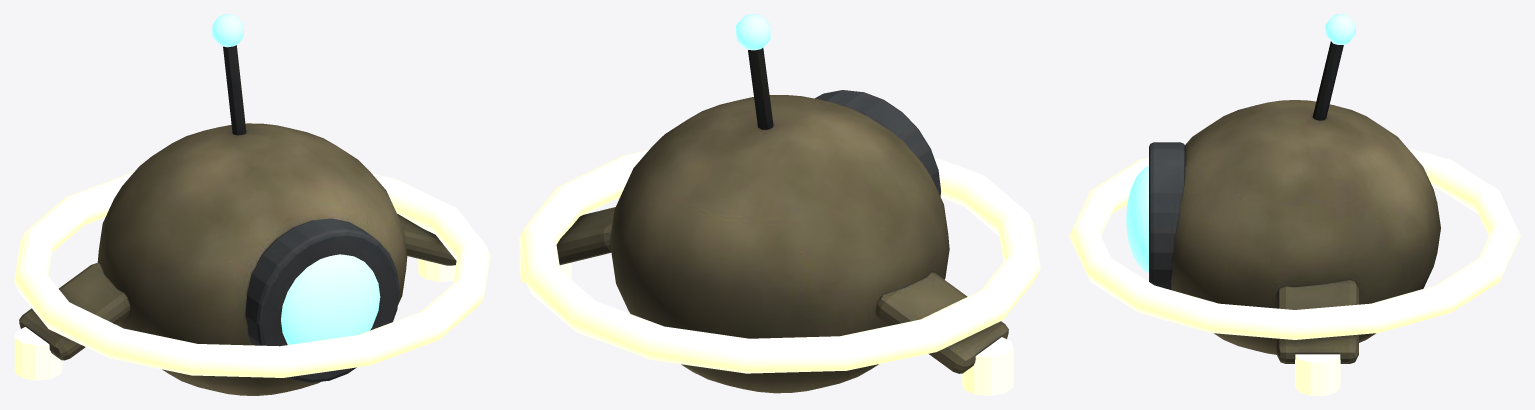
Rendered from partner-drone.glb.
3 views of the same model, side by side, from view 1: azimuth 30°, elevation 25°; view 2: azimuth 150°, elevation 25°; view 3: azimuth 270°, elevation 25° (orthographic). The views are drawn at different scales.
Parts seen in each view (by area): view 1: partner-drone, partner-drone_partner_halo, partner-drone_partner_eye; view 2: partner-drone, partner-drone_partner_halo, partner-drone_partner_eye; view 3: partner-drone, partner-drone_partner_halo, partner-drone_partner_eye.
Part boxes in pixels (x1,y1,x2,y2): partner-drone: [19, 45, 456, 395]; partner-drone_partner_halo: [14, 171, 490, 380]; partner-drone_partner_eye: [212, 14, 380, 344]; partner-drone: [556, 48, 1008, 393]; partner-drone_partner_halo: [519, 150, 1040, 395]; partner-drone_partner_eye: [736, 14, 770, 50]; partner-drone: [1149, 41, 1440, 363]; partner-drone_partner_halo: [1069, 147, 1520, 395]; partner-drone_partner_eye: [1126, 14, 1355, 273].
Size of the model in its own units: 1.06 by 0.787 by 0.99.
3 materials, 1 textured.
